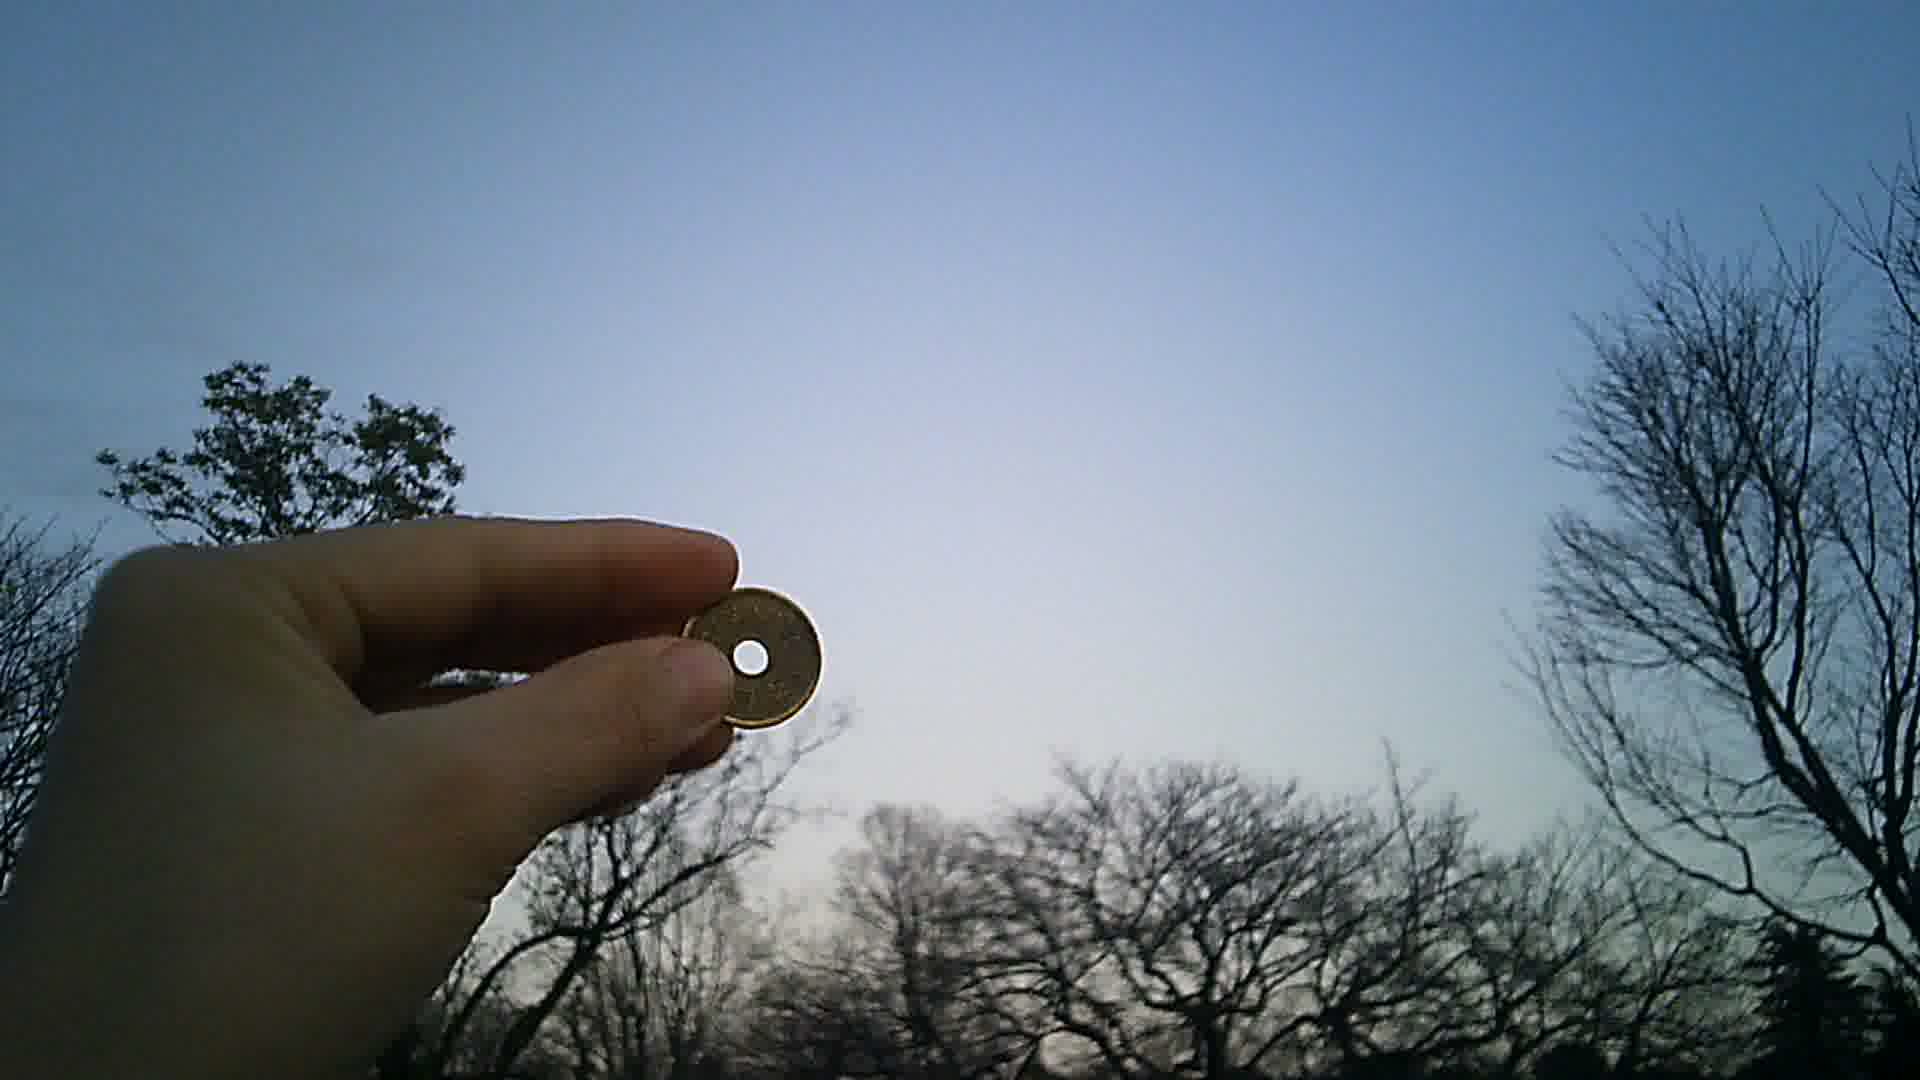5 Yen: (683, 576, 823, 733)
